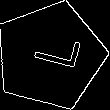L_W: (21, 34, 80, 77)
